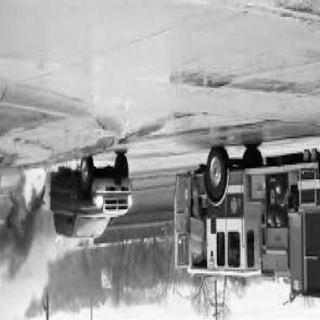Fire: (10, 157, 84, 237)
